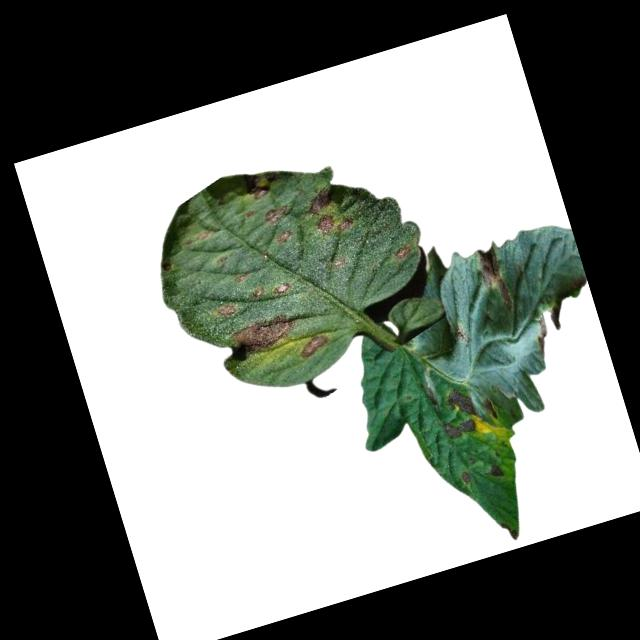Early_blight: (467, 242, 520, 322), (223, 308, 299, 356), (306, 208, 355, 244), (526, 309, 557, 363), (302, 184, 340, 219), (438, 414, 479, 444), (447, 383, 478, 419), (296, 330, 334, 359), (262, 201, 290, 229), (212, 302, 238, 322), (269, 278, 291, 300), (271, 227, 293, 248), (248, 283, 269, 302), (249, 185, 270, 204), (485, 463, 505, 482), (392, 244, 411, 262), (457, 470, 473, 488)
